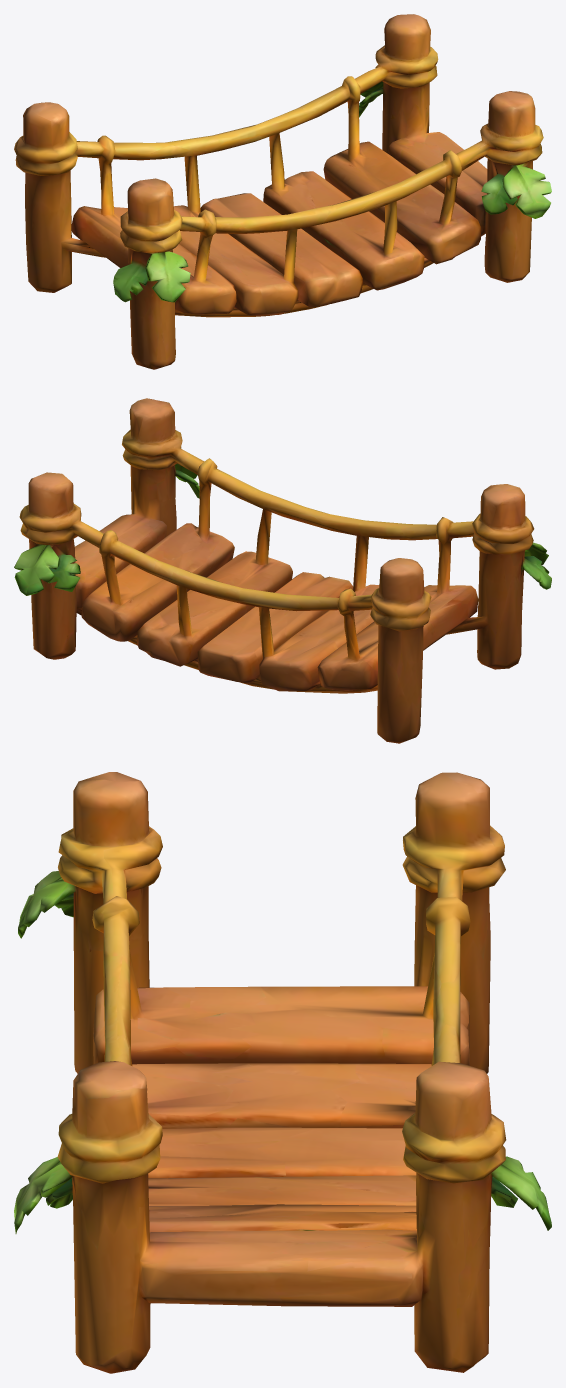
Rendered from rope-bridge.glb.
3 views of the same model, one above another, from view 1: azimuth 30°, elevation 25°; view 2: azimuth 150°, elevation 25°; view 3: azimuth 270°, elevation 25° (orthographic). The views are drawn at different scales.
Parts seen in each view (by area): view 1: tripo_node_e0d579cf-fd2a-41f5-9003-b3aae231c36c; view 2: tripo_node_e0d579cf-fd2a-41f5-9003-b3aae231c36c; view 3: tripo_node_e0d579cf-fd2a-41f5-9003-b3aae231c36c.
Part boxes in pixels (left/top/right/bottom): tripo_node_e0d579cf-fd2a-41f5-9003-b3aae231c36c: left=14, top=14, right=551, bottom=369; tripo_node_e0d579cf-fd2a-41f5-9003-b3aae231c36c: left=14, top=398, right=551, bottom=743; tripo_node_e0d579cf-fd2a-41f5-9003-b3aae231c36c: left=14, top=772, right=551, bottom=1373.
Bounding box in the file's own units: 0.998 × 0.4 × 0.6606.
Materials: 1 (1 with a texture image).
